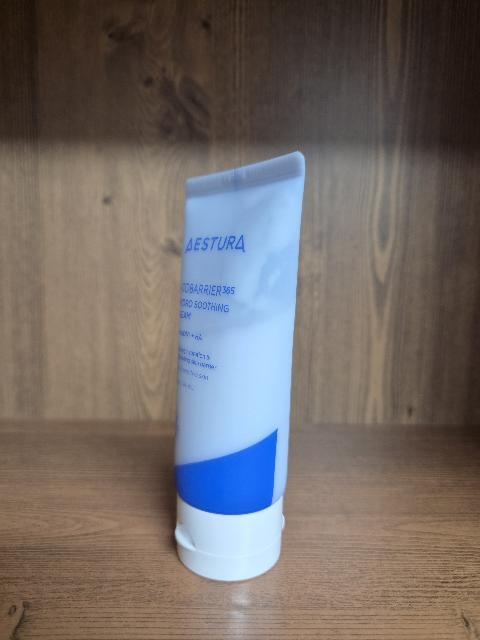handcream: (175, 151, 306, 581)
